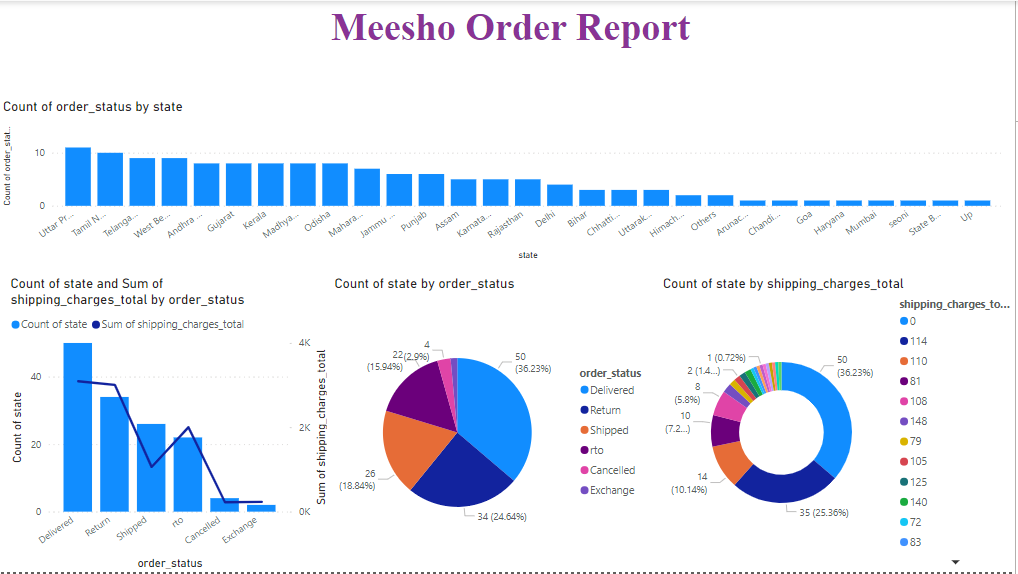

The page's visual inventory and layout, read from the dashboard file:
{"tool":"powerbi","page":{"name":"Page 1","canvas":[1280,720],"ordinal":0},"visuals":[{"type":"clusteredColumnChart","fields":{"Category":["meesho ForwardReports.state"],"Y":["CountNonNull(meesho ForwardReports.order_status)"]},"box":[0,122.8,1269.9,207.9],"z":0},{"type":"donutChart","fields":{"Category":["meesho ForwardReports.shipping_charges_total"],"Y":["CountNonNull(meesho ForwardReports.state)"]},"box":[831.5,345.8,447.9,374.2],"z":1000},{"type":"lineStackedColumnComboChart","fields":{"Category":["meesho ForwardReports.order_status"],"Y":["CountNonNull(meesho ForwardReports.state)"],"Y2":["Sum(meesho ForwardReports.shipping_charges_total)"]},"box":[9.4,345.8,408.2,374.2],"z":2000},{"type":"pieChart","fields":{"Y":["CountNonNull(meesho ForwardReports.state)"],"Category":["meesho ForwardReports.order_status"]},"box":[417.6,345.8,413.9,374.2],"z":2001},{"type":"textbox","box":[9.4,0,1269.9,73.7],"z":2002}]}

Visuals, with their boxes in screenshot pixels (x1, y1, x2, y2), scaled from the page's 1280x720 canvas onto the 1018x574 screenshot:
clusteredColumnChart - meesho ForwardReports.state x CountNonNull(meesho ForwardReports.order_status): pyautogui.locateOnScreen(0, 98, 1010, 264)
donutChart - meesho ForwardReports.shipping_charges_total x CountNonNull(meesho ForwardReports.state): pyautogui.locateOnScreen(661, 276, 1017, 573)
lineStackedColumnComboChart - meesho ForwardReports.order_status x CountNonNull(meesho ForwardReports.state): pyautogui.locateOnScreen(7, 276, 332, 573)
pieChart - CountNonNull(meesho ForwardReports.state) x meesho ForwardReports.order_status: pyautogui.locateOnScreen(332, 276, 661, 573)
textbox: pyautogui.locateOnScreen(7, 0, 1017, 59)
